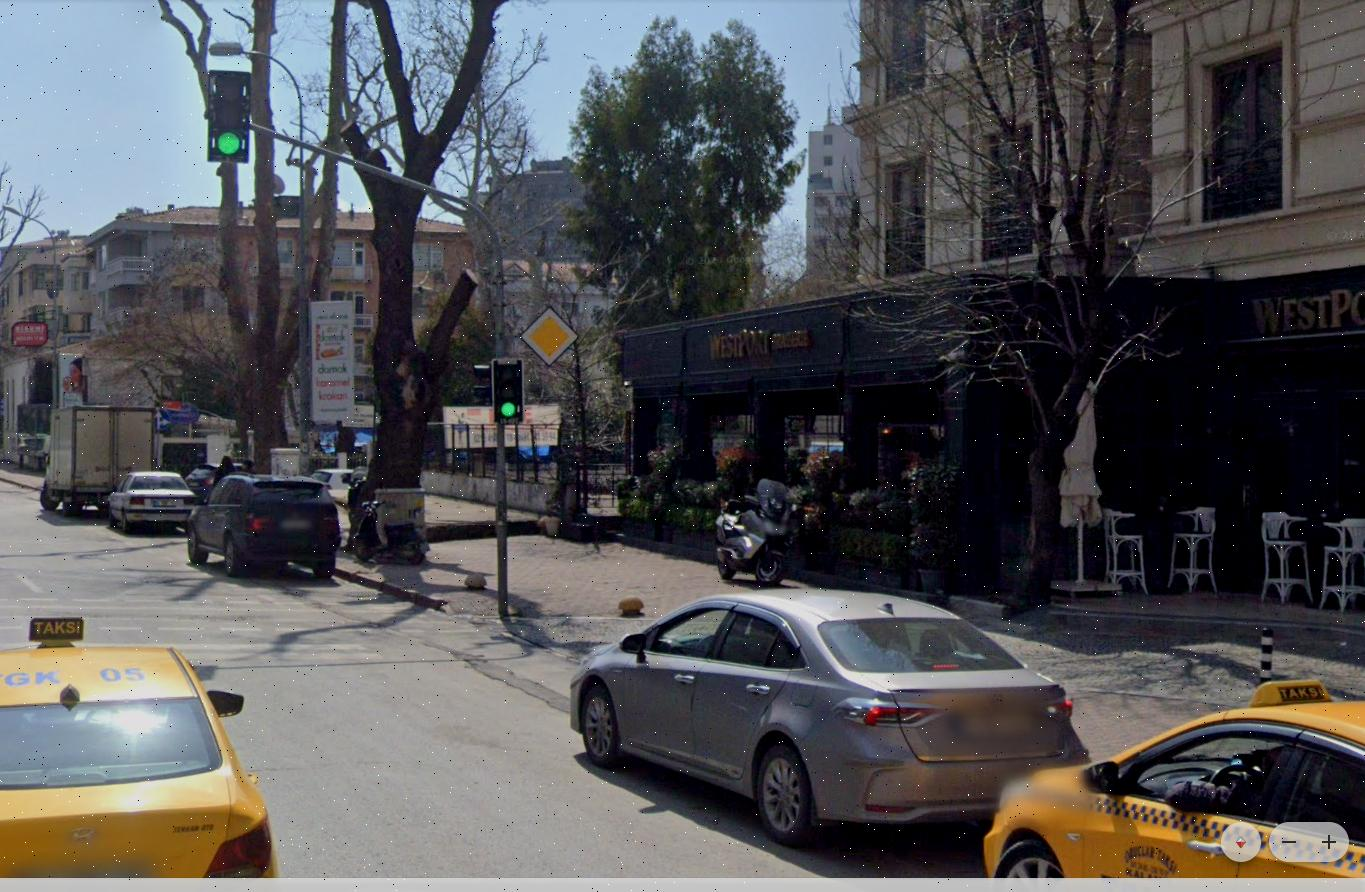greenlight: (205, 70, 251, 165), (494, 365, 526, 425)
